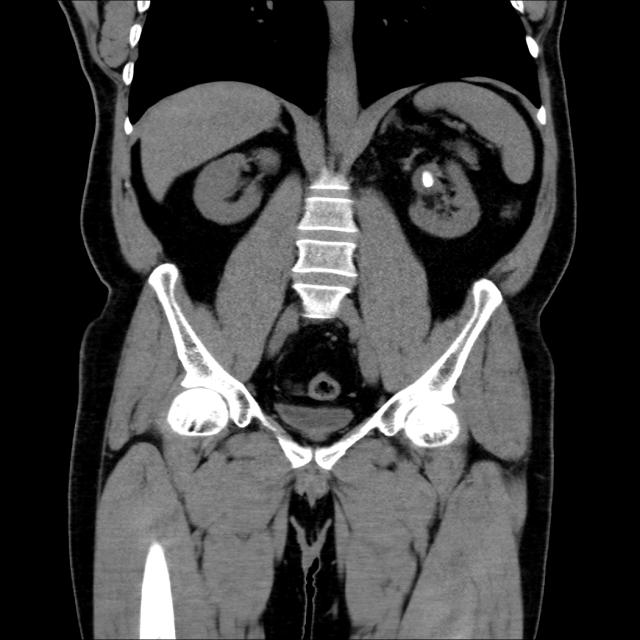kidneystone: (421, 171, 433, 188)
